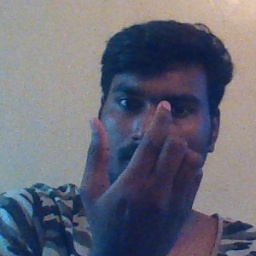U: (82, 94, 197, 245)
